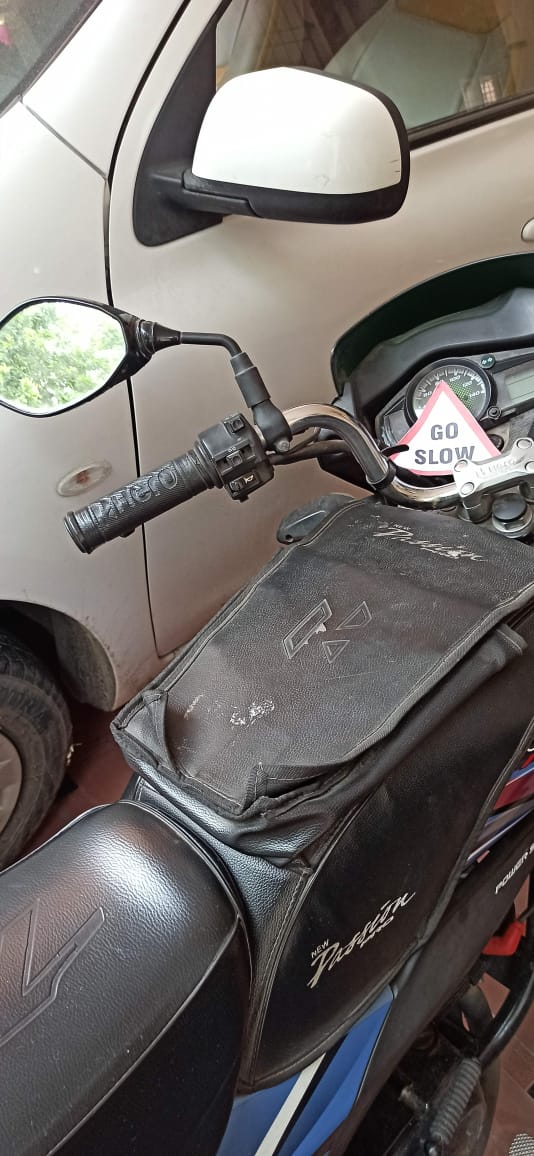GO SLOW: (372, 375, 519, 493)
